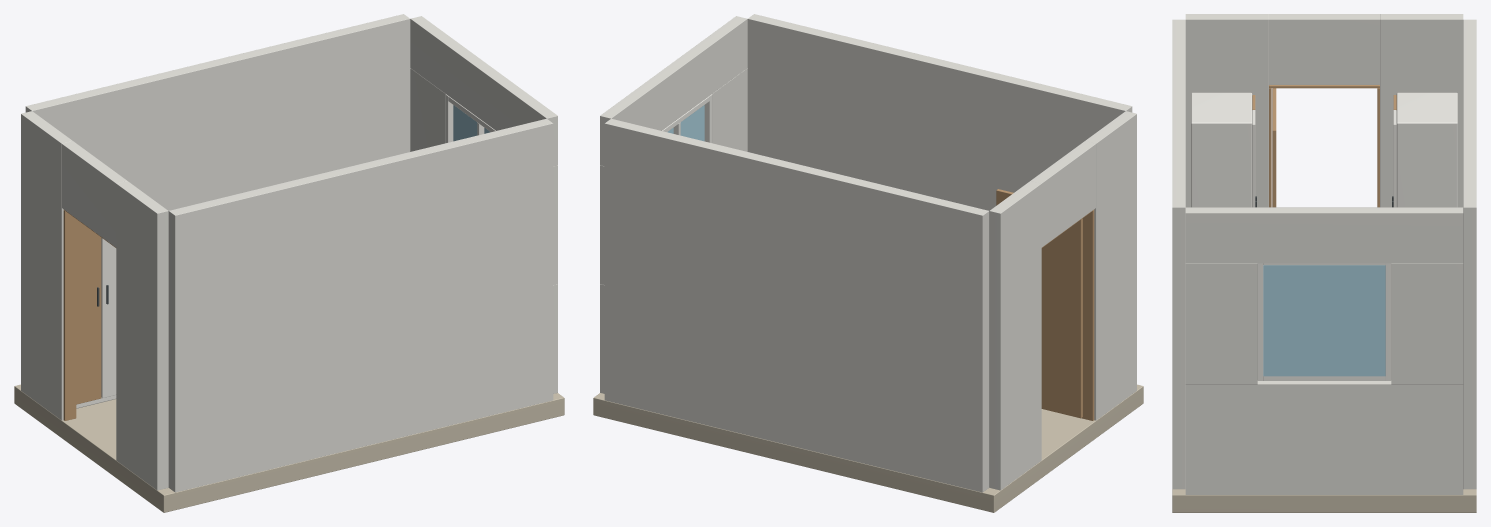
Rendered from dormitory_10sqm.glb.
The picture shows the model from 3 angles, left to right: view 1: azimuth 30°, elevation 25°; view 2: azimuth 150°, elevation 25°; view 3: azimuth 270°, elevation 25°; orthographic projection.
Parts seen in each view (by area): view 1: Wall_South, Wall_North, Wall_West_South, Wall_West_North, Floor_4x2_5, Wall_East_Upper, Wardrobe_2_SlidingPanel_0, Wall_West_OverDoor, Door_Jamb_1.7375, Wardrobe_2_SlidingPanel_1, Wall_East_Pier_2.175, Window_Glass; view 2: Wall_North, Wall_South, Wall_West_North, Wall_West_South, Floor_4x2_5, Door_Leaf_0_90m, Wall_East_Upper, Wall_West_OverDoor, Door_Jamb_0.7625, Wall_East_Pier_0.325, Window_Glass; view 3: Wall_East_Lower, Wall_East_Upper, Window_Glass, Wall_West_North, Wall_West_South, Wall_East_Pier_0.325, Wall_East_Pier_2.175, Wall_West_OverDoor, Wardrobe_1_Case, Wardrobe_2_Case, Wall_North, Wall_South (+11 smaller).
Boxes of the visible parts, left/top/right/bottom form: Wall_South: left=168, top=118, right=553, bottom=492; Wall_North: left=25, top=14, right=410, bottom=210; Wall_West_South: left=116, top=181, right=168, bottom=490; Wall_West_North: left=21, top=111, right=72, bottom=420; Floor_4x2_5: left=14, top=384, right=564, bottom=512; Wall_East_Upper: left=410, top=16, right=557, bottom=166; Wardrobe_2_SlidingPanel_0: left=76, top=219, right=101, bottom=404; Wall_West_OverDoor: left=62, top=141, right=126, bottom=247; Door_Jamb_1.7375: left=63, top=210, right=76, bottom=420; Wardrobe_2_SlidingPanel_1: left=101, top=237, right=116, bottom=398; Wall_East_Pier_2.175: left=410, top=68, right=445, bottom=151; Window_Glass: left=453, top=105, right=490, bottom=141; Wall_North: left=604, top=118, right=989, bottom=492; Wall_South: left=747, top=14, right=1132, bottom=210; Wall_West_North: left=989, top=181, right=1041, bottom=490; Wall_West_South: left=1085, top=111, right=1136, bottom=420; Floor_4x2_5: left=593, top=384, right=1143, bottom=512; Door_Leaf_0_90m: left=996, top=189, right=1082, bottom=418; Wall_East_Upper: left=600, top=16, right=747, bottom=166; Wall_West_OverDoor: left=1031, top=141, right=1095, bottom=247; Door_Jamb_0.7625: left=1082, top=210, right=1094, bottom=420; Wall_East_Pier_0.325: left=712, top=68, right=747, bottom=151; Window_Glass: left=667, top=105, right=704, bottom=141; Wall_East_Lower: left=1185, top=381, right=1463, bottom=494; Wall_East_Upper: left=1185, top=207, right=1463, bottom=263; Window_Glass: left=1263, top=265, right=1385, bottom=376; Wall_West_North: left=1380, top=14, right=1463, bottom=207; Wall_West_South: left=1185, top=14, right=1268, bottom=207; Wall_East_Pier_0.325: left=1185, top=263, right=1257, bottom=384; Wall_East_Pier_2.175: left=1391, top=263, right=1463, bottom=384; Wall_West_OverDoor: left=1269, top=14, right=1379, bottom=84; Wardrobe_1_Case: left=1191, top=92, right=1252, bottom=207; Wardrobe_2_Case: left=1396, top=92, right=1457, bottom=207; Wall_North: left=1463, top=19, right=1476, bottom=489; Wall_South: left=1172, top=19, right=1185, bottom=489.
Bounding box in the file's own units: 4.24 × 2.98 × 2.74.
